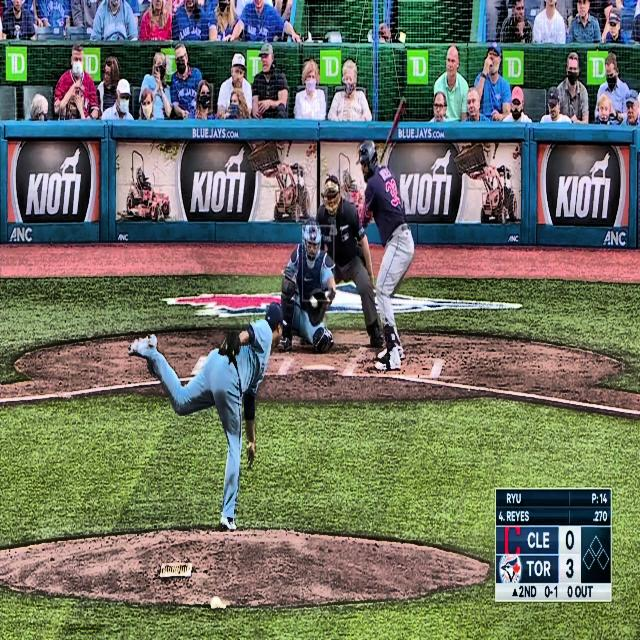baseball: (310, 294, 318, 309)
